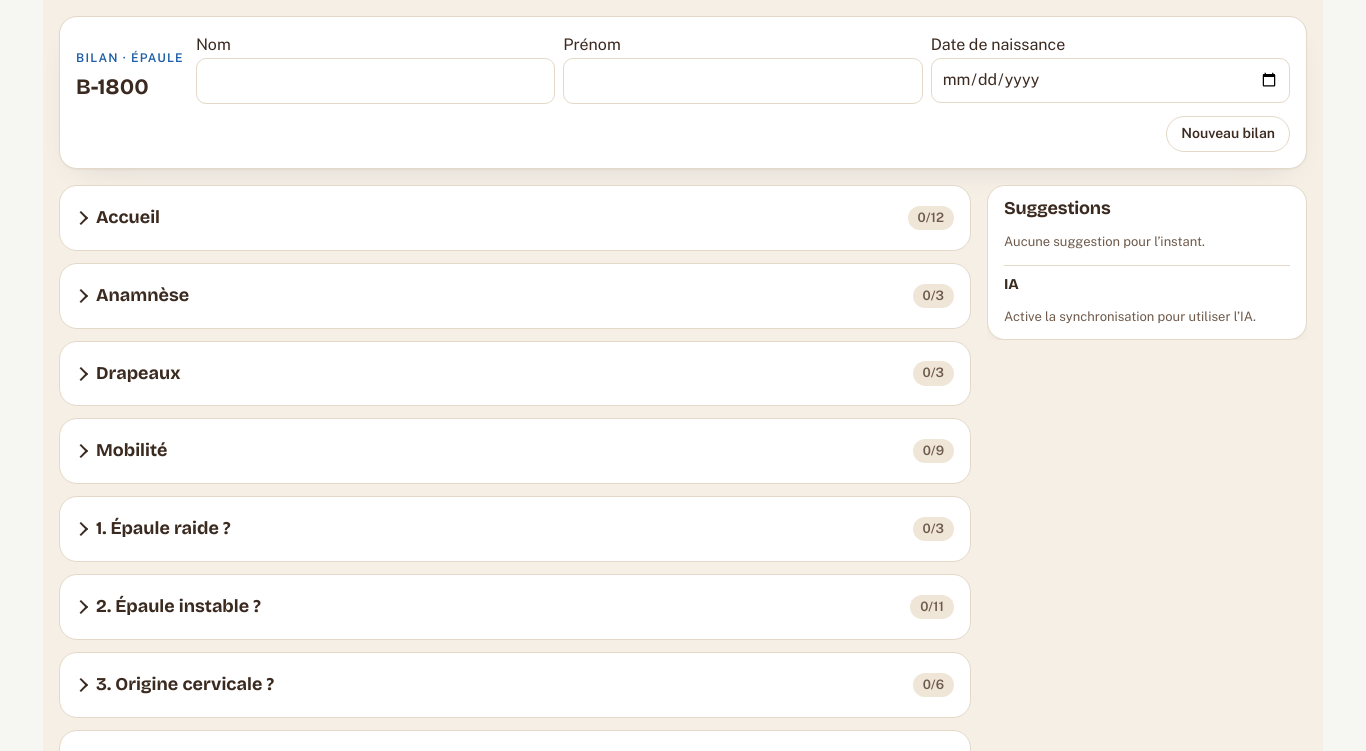
Test: section Accueil (physio) › Côté seulement si l’épaule est cochée
Expected: the text with class "bilan-sec-title" reads "Accueil", 96,206 -> 160,228
Click the heading "Accueil 0/12": coordinates (128, 217) 96,206 -> 954,230
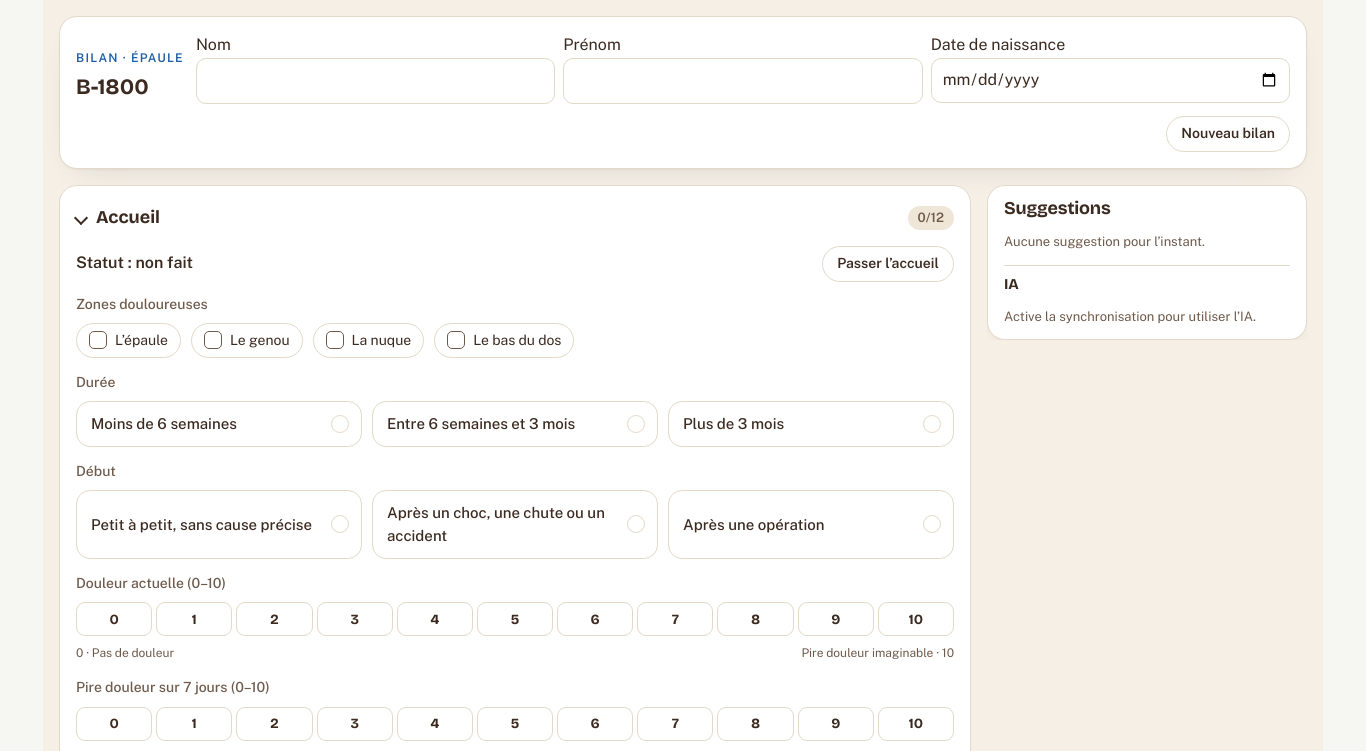
Expected: the element "Côté" is not shown
Click the checkbox labelled "L’épaule": coordinates (128, 340) 76,323 -> 181,358
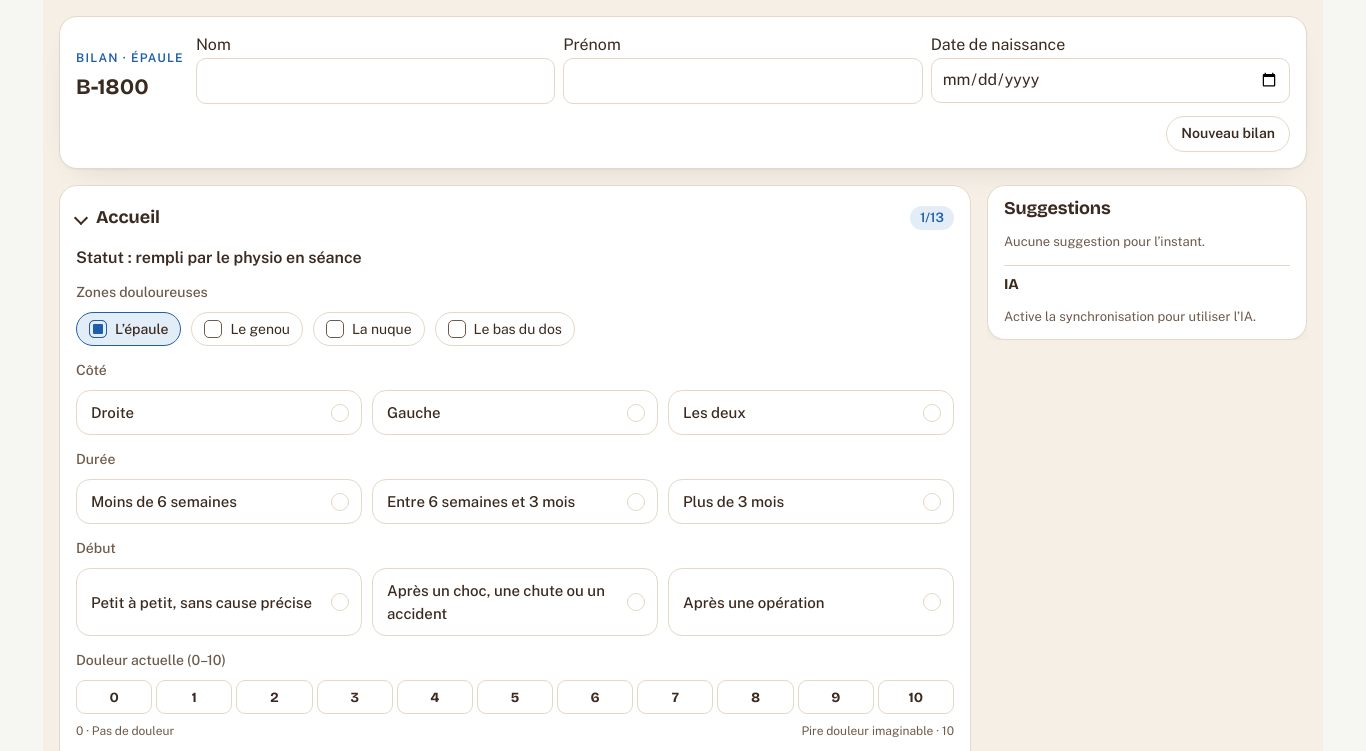
Result: the element "Côté" is shown at 76,360 -> 954,435
